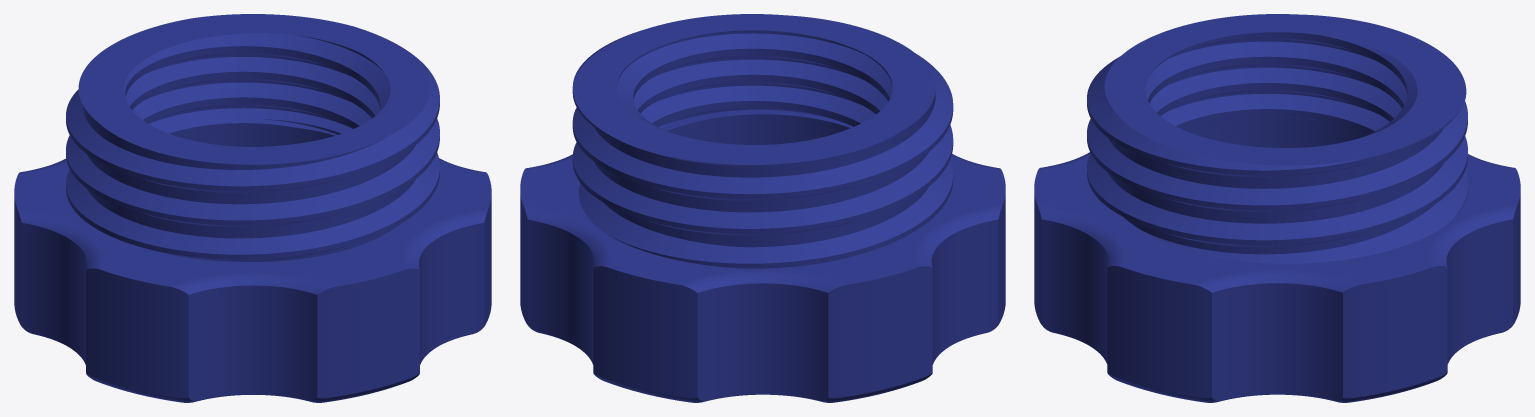
The picture shows the model from 3 angles, left to right: view 1: azimuth 30°, elevation 25°; view 2: azimuth 150°, elevation 25°; view 3: azimuth 270°, elevation 25°; orthographic projection.
Parts seen in each view (by area): view 1: Body1; view 2: Body1; view 3: Body1.
Boxes of the visible parts, x1,y1,x2,y2 form: Body1: (14, 14, 491, 402); Body1: (520, 14, 1005, 402); Body1: (1034, 14, 1520, 402).
Size of the model in its own units: 24.36 by 12.8 by 25.3.
